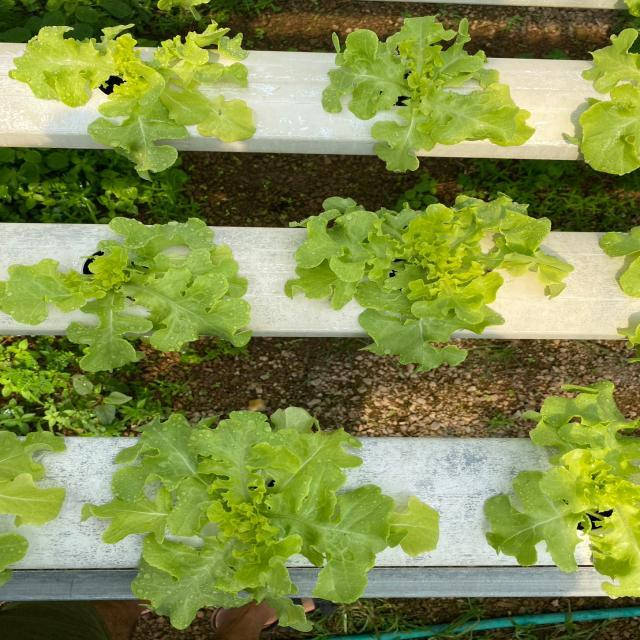Lettuce-Not-Ready-to-Harvest: (85, 417, 432, 632), (290, 200, 565, 368), (6, 216, 260, 364), (8, 24, 253, 168), (318, 21, 533, 171), (486, 395, 640, 600)
